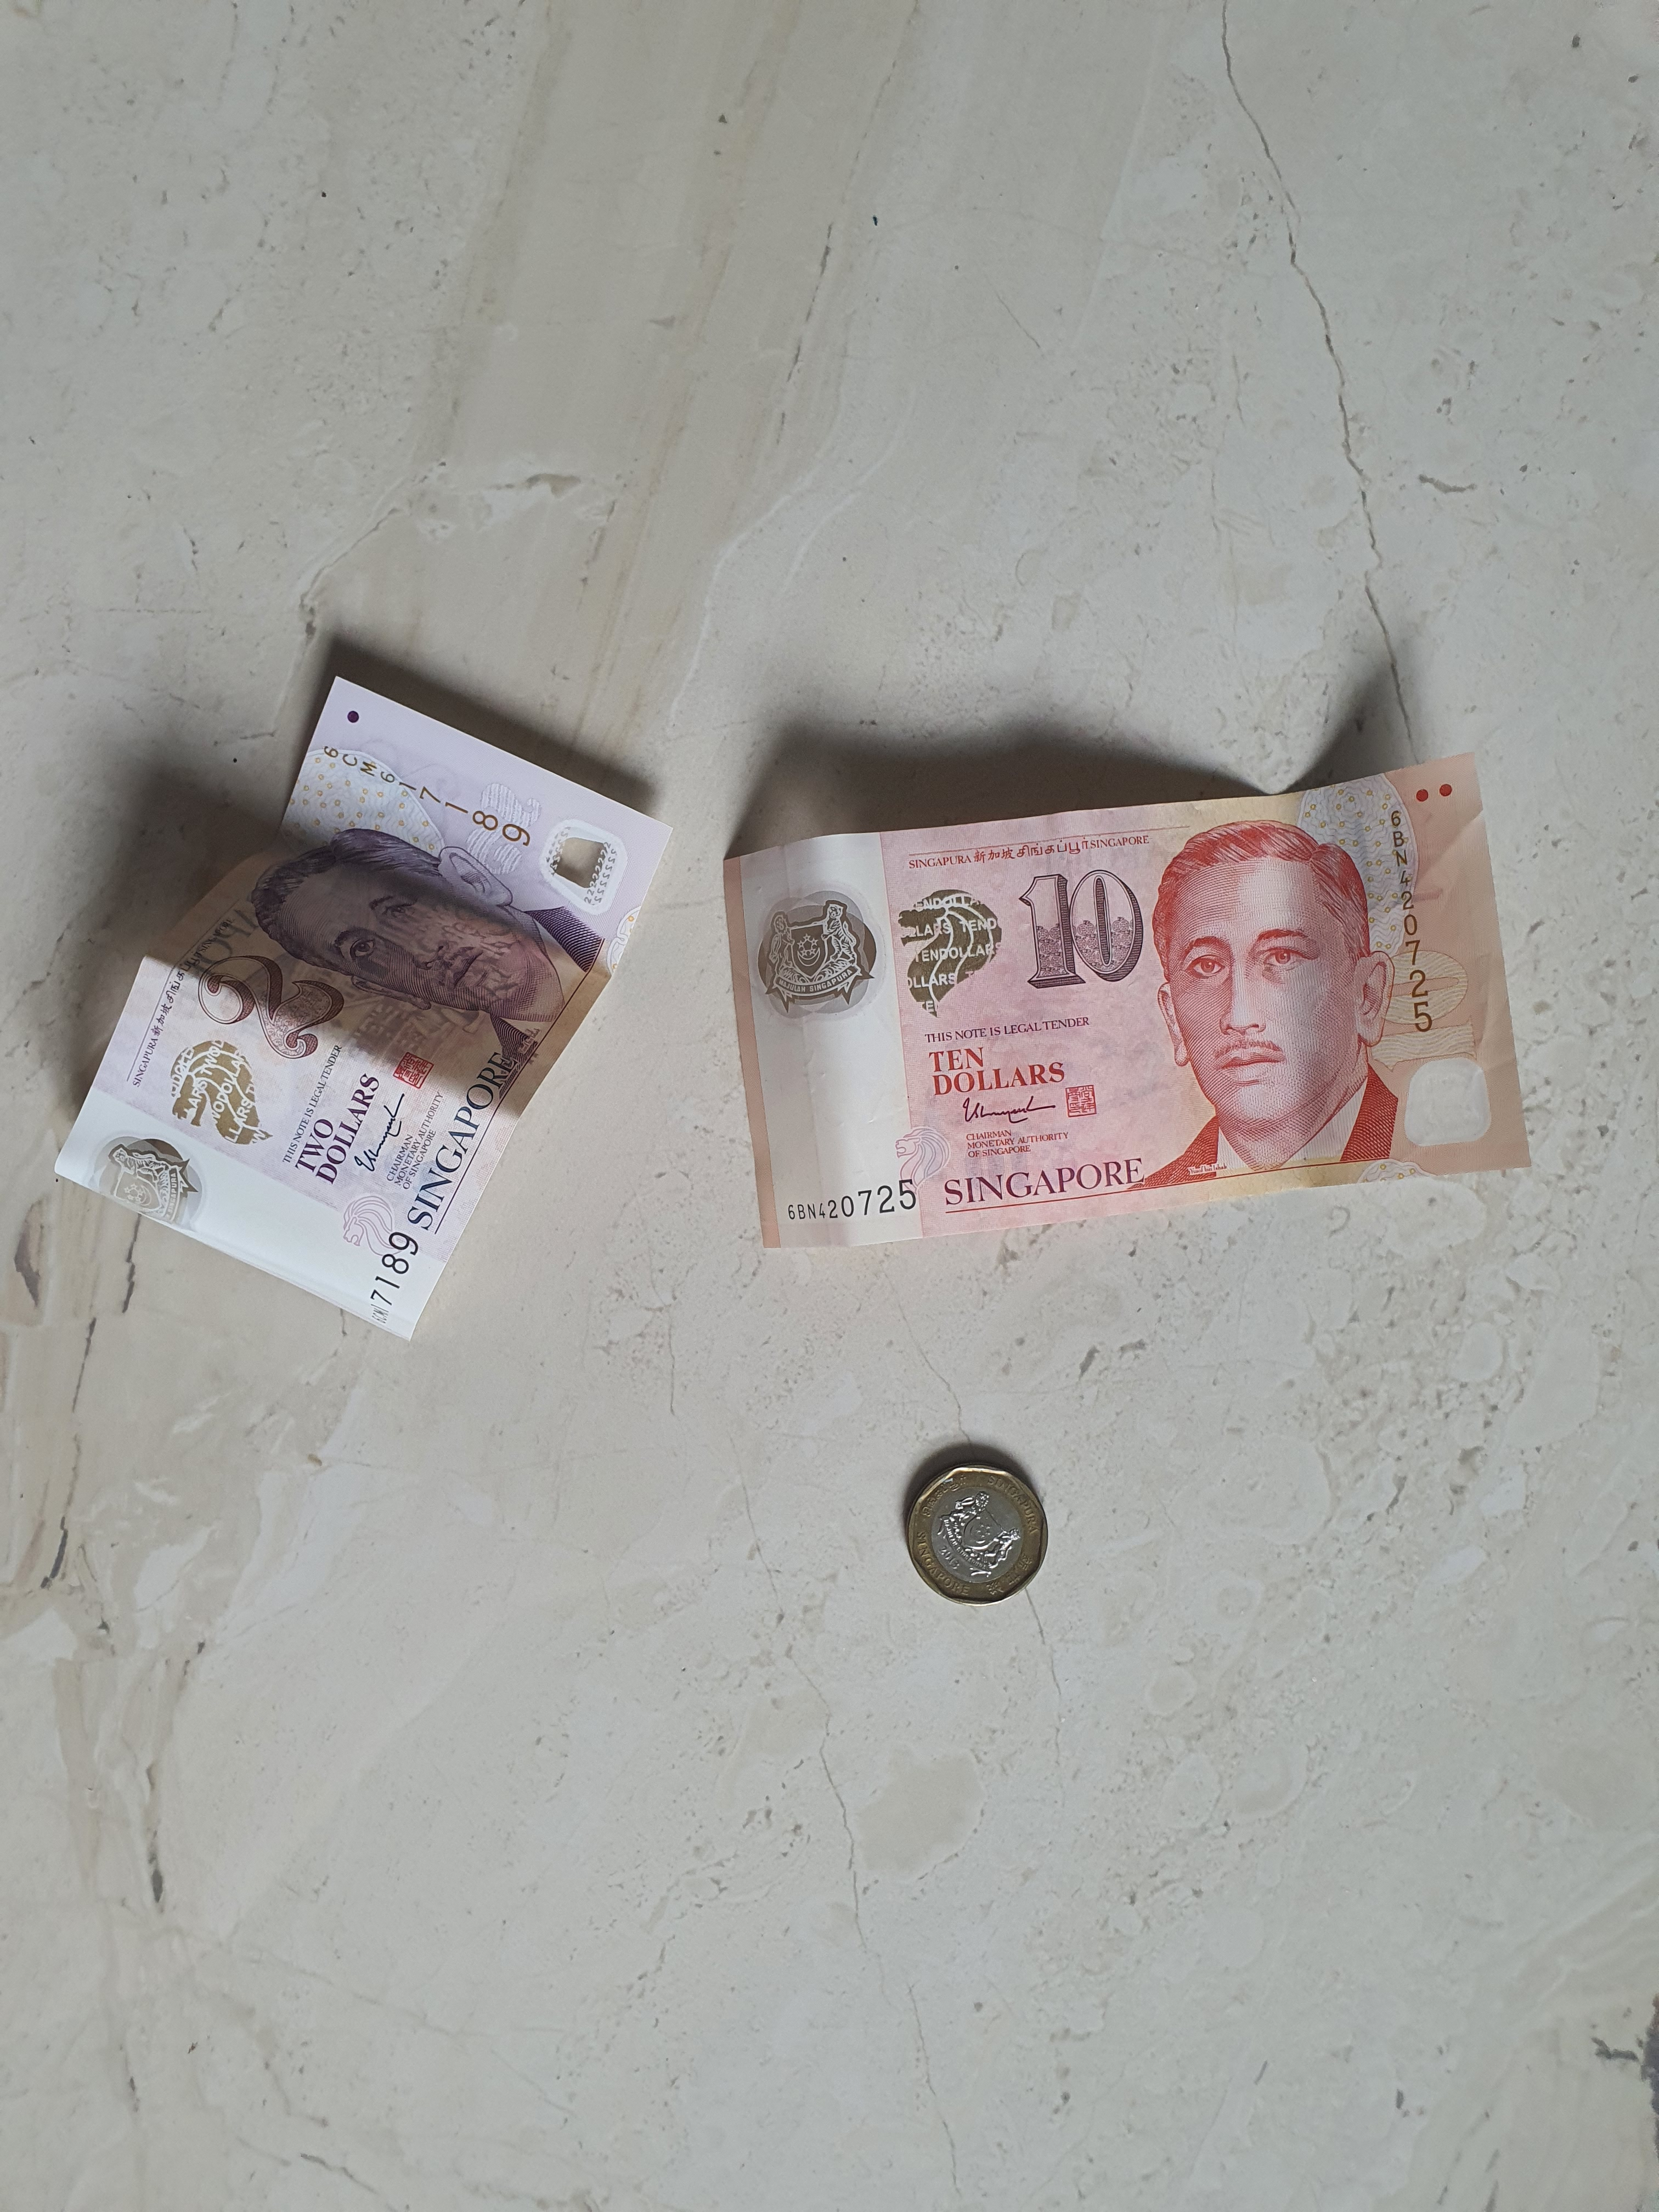$1: (904, 1463, 1051, 1608)
$10: (723, 752, 1534, 1247)
$2: (54, 674, 676, 1341)
